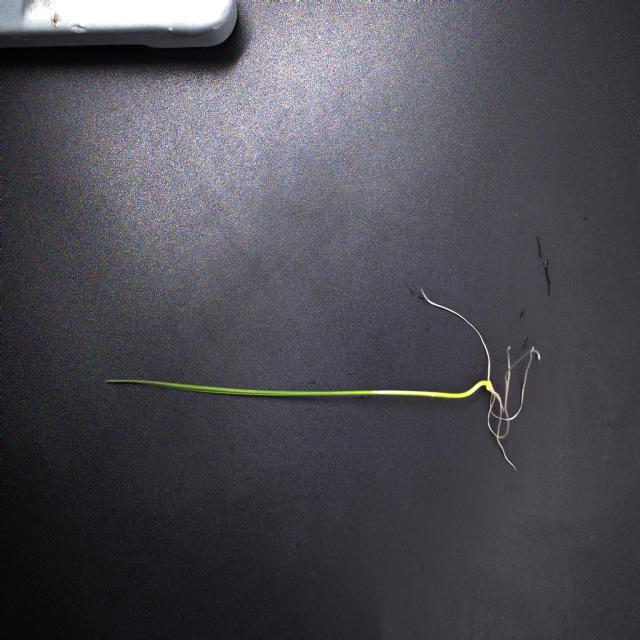leaf: (100, 378, 375, 400)
root: (418, 287, 542, 467)
stem: (375, 376, 491, 406)
